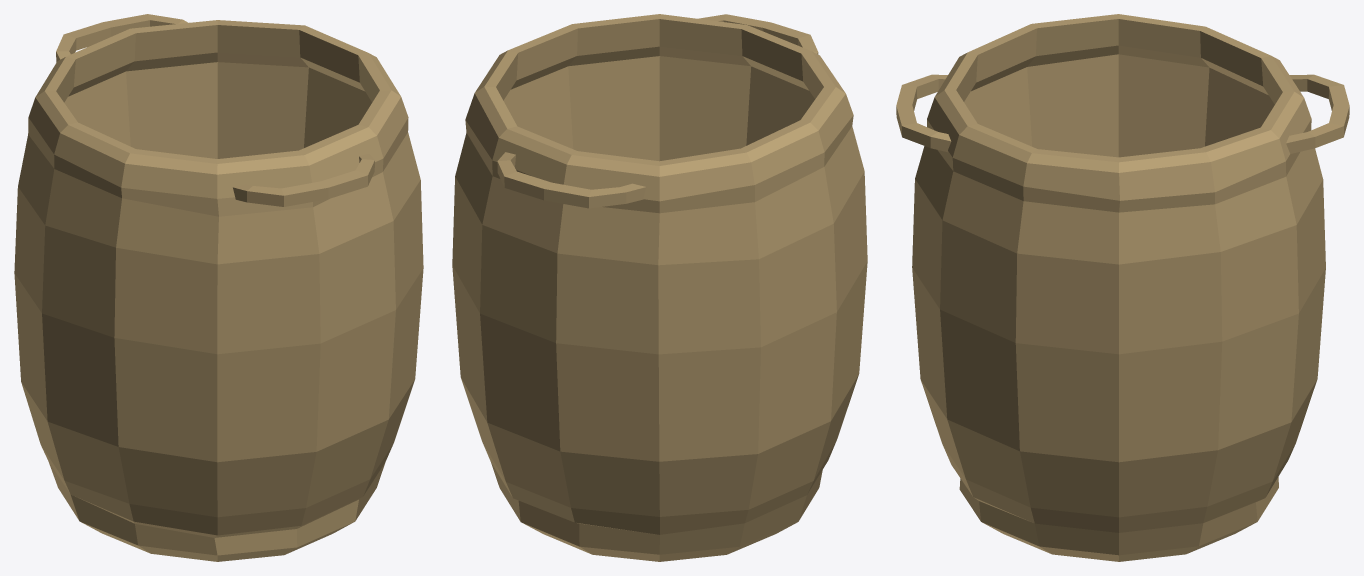
The model's file is SM_Prop_Basket_01.glb.
The picture shows the model from 3 angles, left to right: view 1: azimuth 30°, elevation 25°; view 2: azimuth 150°, elevation 25°; view 3: azimuth 270°, elevation 25°; orthographic projection.
Parts seen in each view (by area): view 1: SM_Prop_Basket_01; view 2: SM_Prop_Basket_01; view 3: SM_Prop_Basket_01.
Boxes of the visible parts, x1=… form: SM_Prop_Basket_01: x1=14, y1=14, x2=423, y2=561; SM_Prop_Basket_01: x1=452, y1=14, x2=867, y2=561; SM_Prop_Basket_01: x1=896, y1=14, x2=1349, y2=561.
Size of the model in its own units: 0.93 by 1.05 by 1.03.
Materials: 1 (1 with a texture image).
